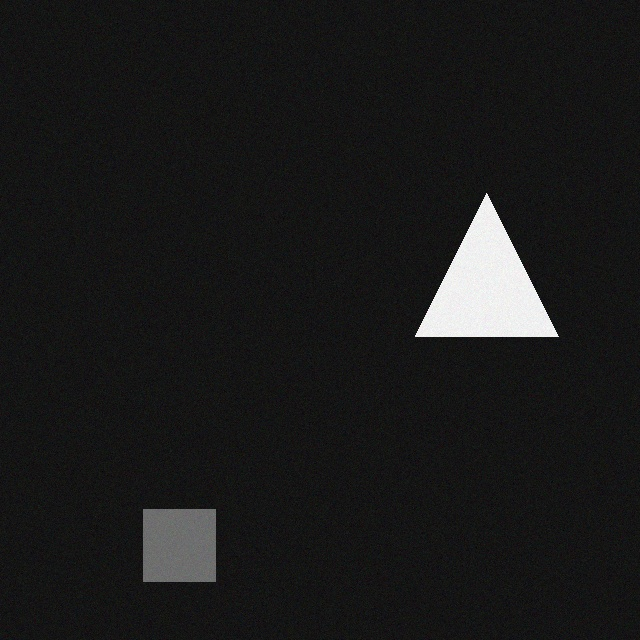square: (129, 516, 201, 588)
triangle: (401, 200, 544, 343)
